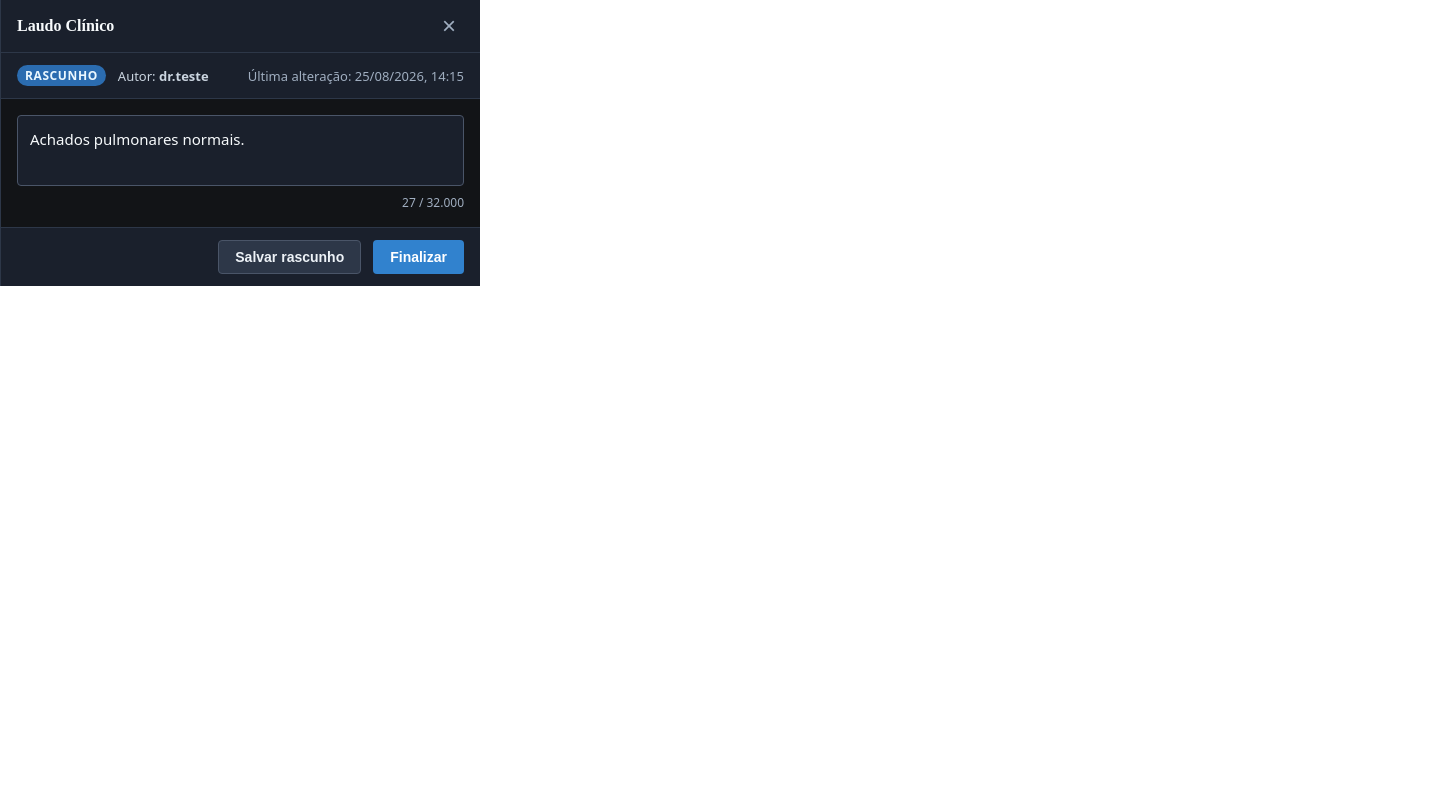
Test: ReportPanel › Phase Transitions and Error Handling › offers reload server version with confirmation on 412 version conflict
Replace the text in the text box named "Conteúdo do laudo" with "Minhas mudanças concorrentes": (240,150) x1=17 y1=115 x2=464 y2=186
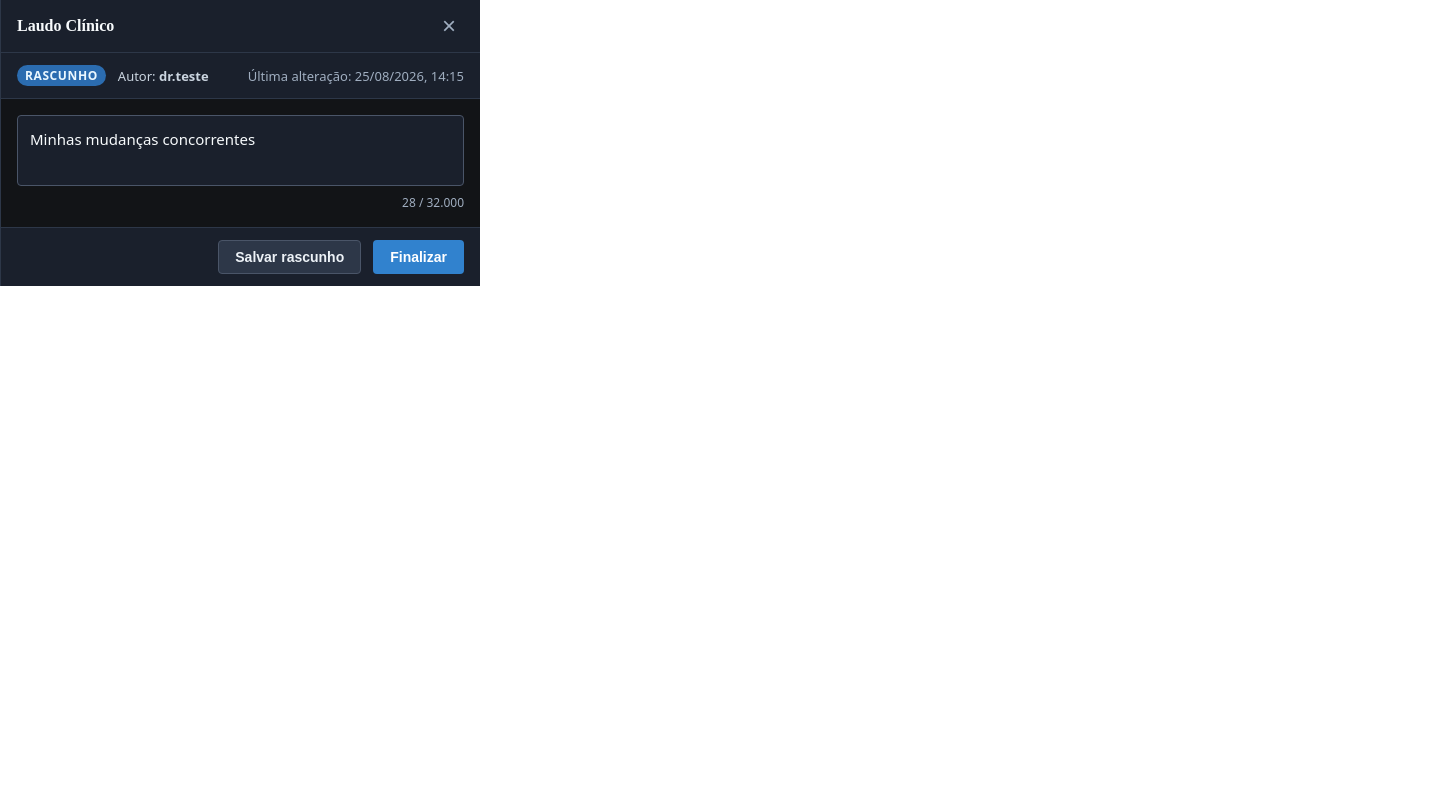
Click the button with test id "save-draft-button": (290,257) x1=218 y1=240 x2=361 y2=274
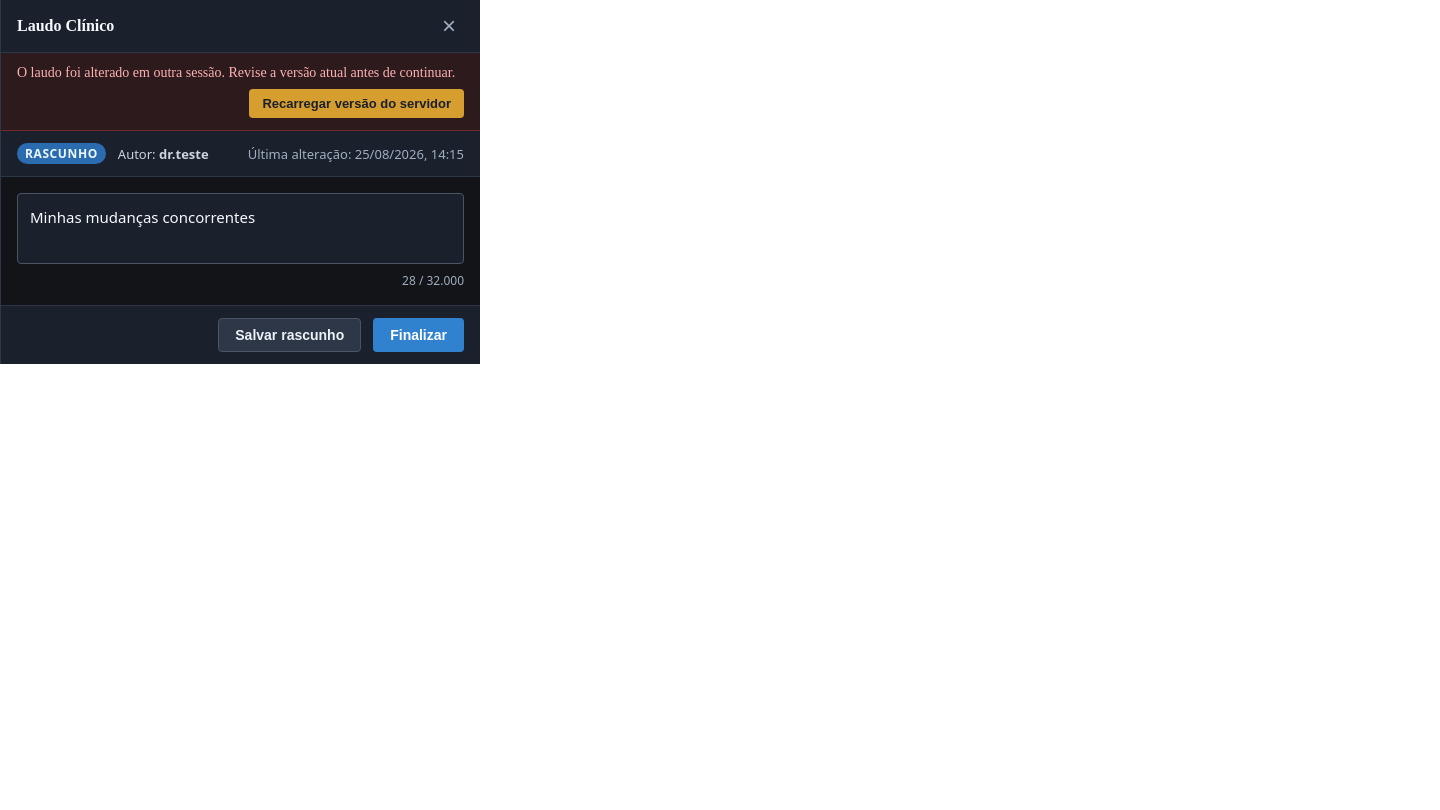
Now the message with test id "report-error" is shown, box x1=1 y1=53 x2=480 y2=131
Now the message with test id "report-error" shows "O laudo foi alterado em outra sessão. Revise a versão atual antes de continuar.", box x1=17 y1=65 x2=455 y2=80
Now the button with test id "reload-server-button" is shown
Clicking reload opens confirmation modal
Click the button with test id "reload-server-button": (357,104) x1=249 y1=89 x2=464 y2=118
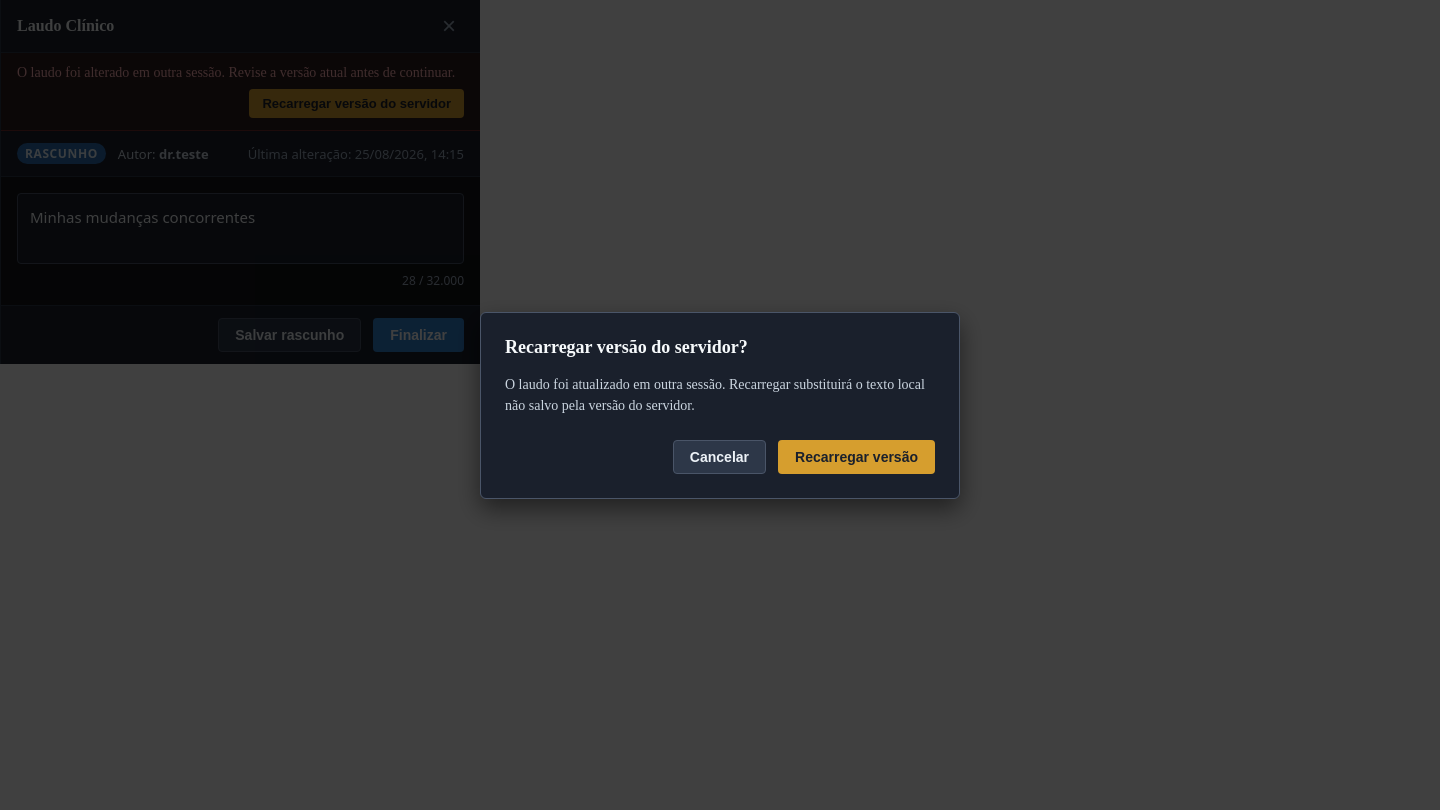
Now the dialog with test id "reload-confirm-modal" is shown
Click the button with test id "reload-cancel-button": (720,456) x1=673 y1=440 x2=766 y2=474
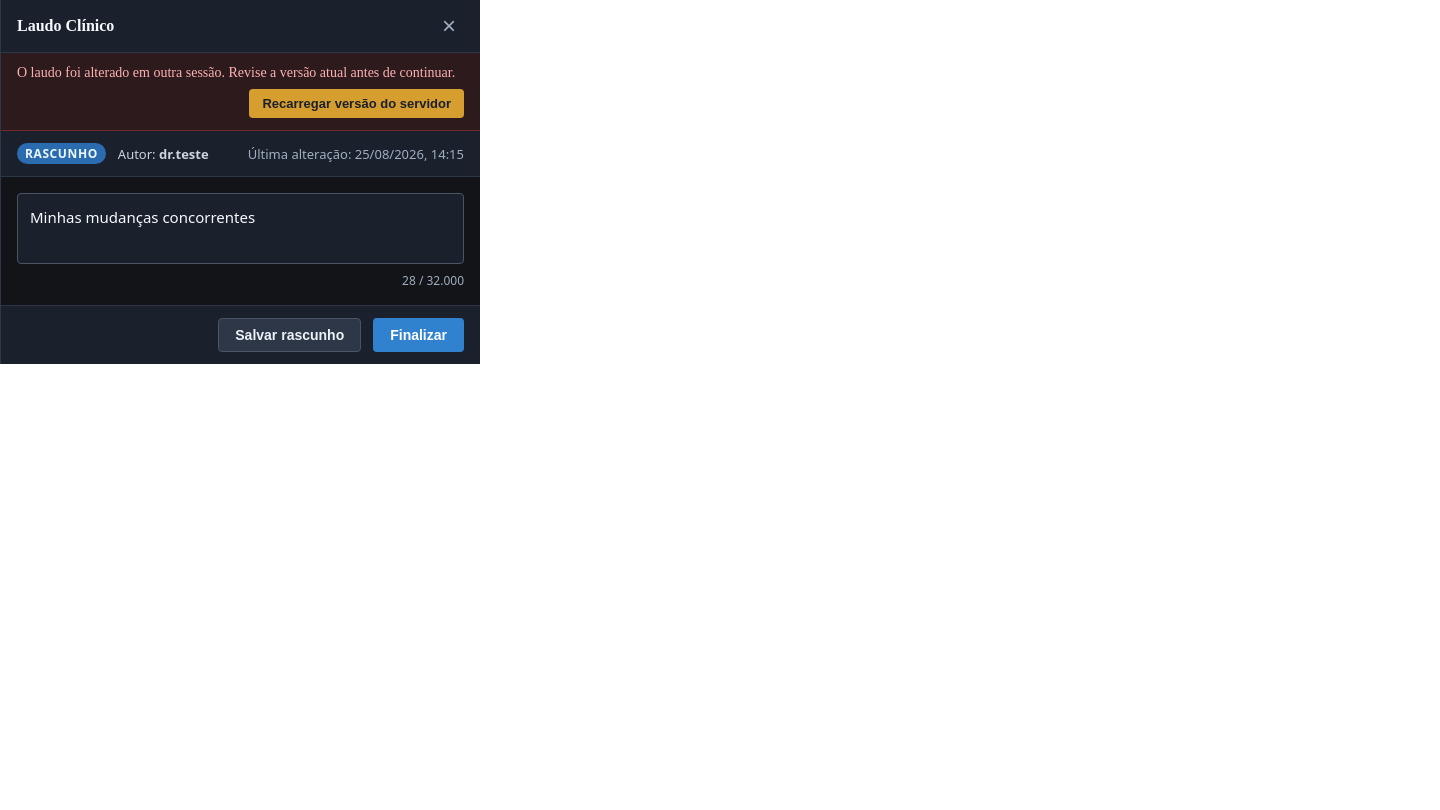
Open again and confirm reload
Click the button with test id "reload-server-button": (357,104) x1=249 y1=89 x2=464 y2=118
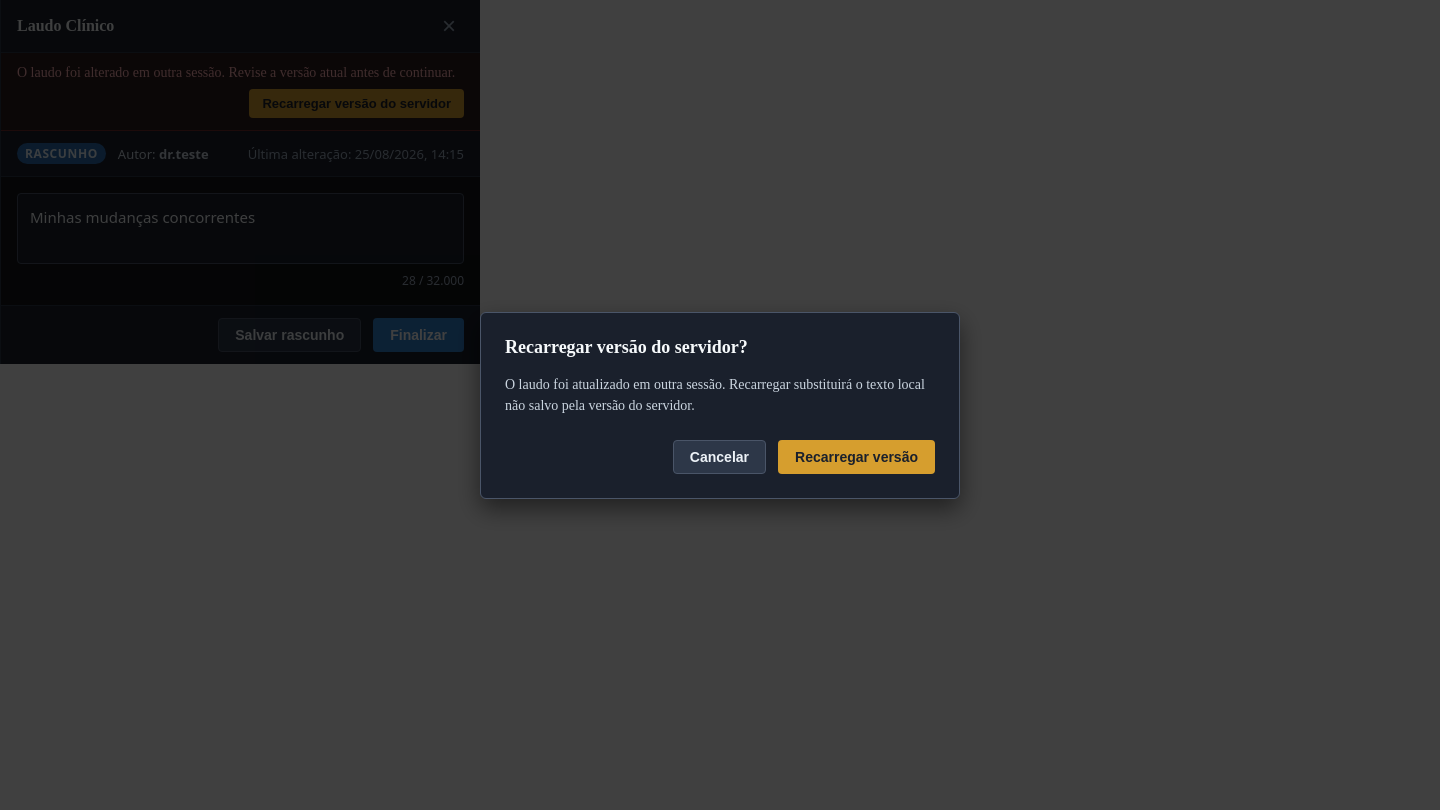
Click the button with test id "reload-confirm-submit-button": (856,456) x1=778 y1=440 x2=935 y2=474
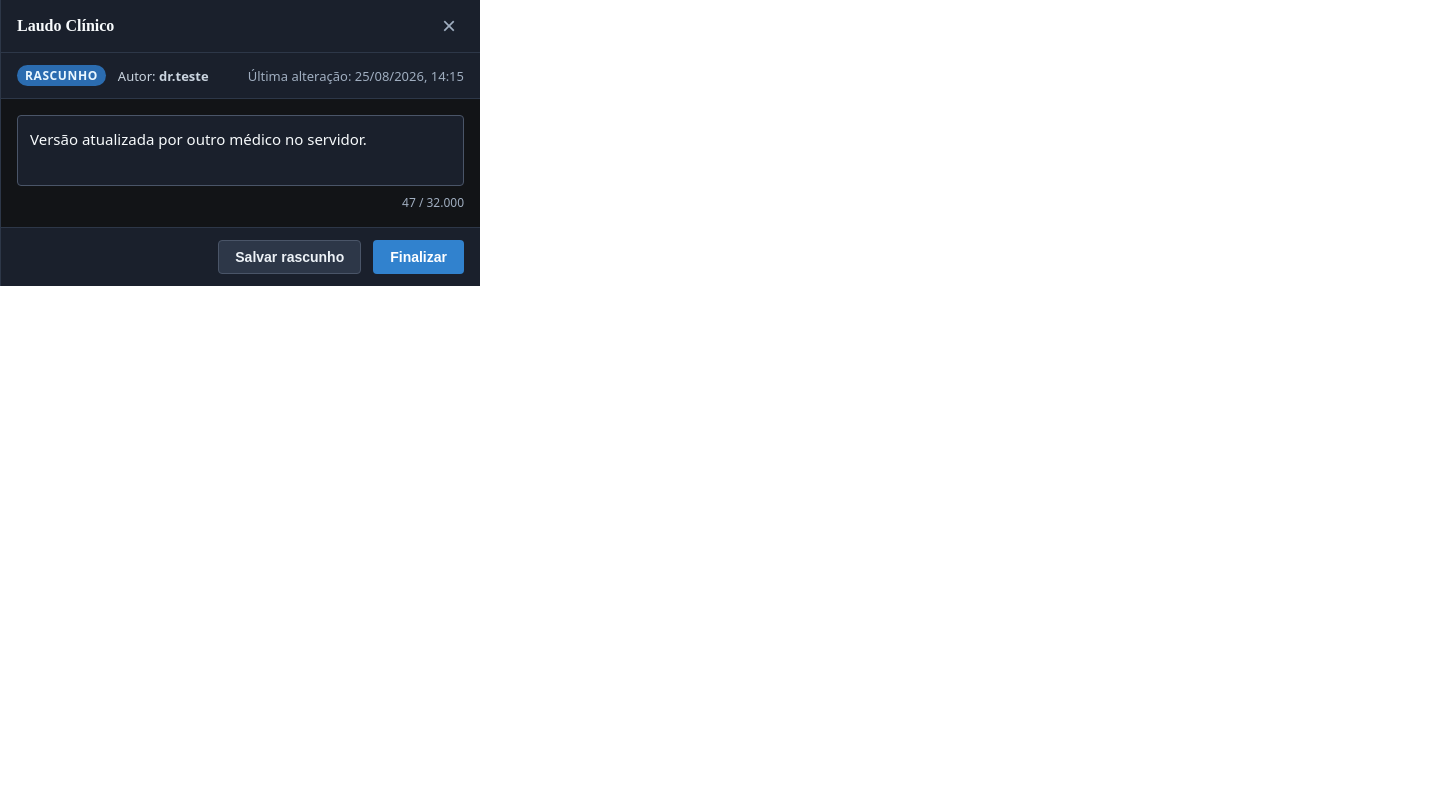
Now the text box named "Conteúdo do laudo" holds "Versão atualizada por outro médico no servidor.", box x1=17 y1=115 x2=464 y2=186
